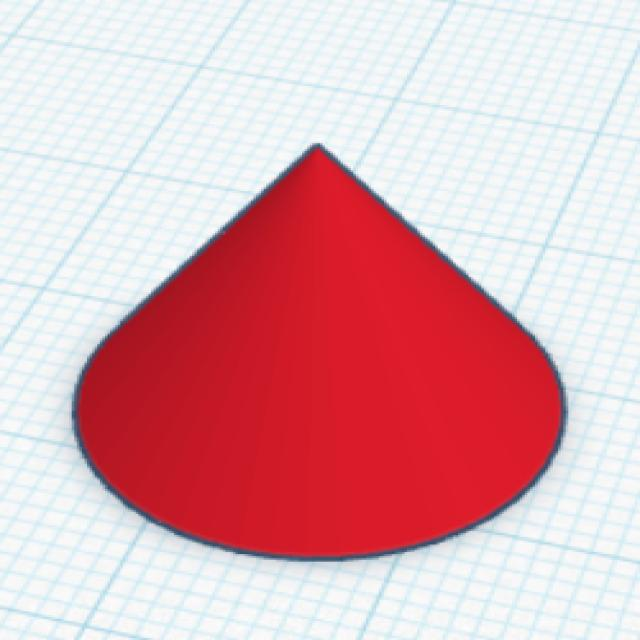cone: (64, 139, 575, 568)
